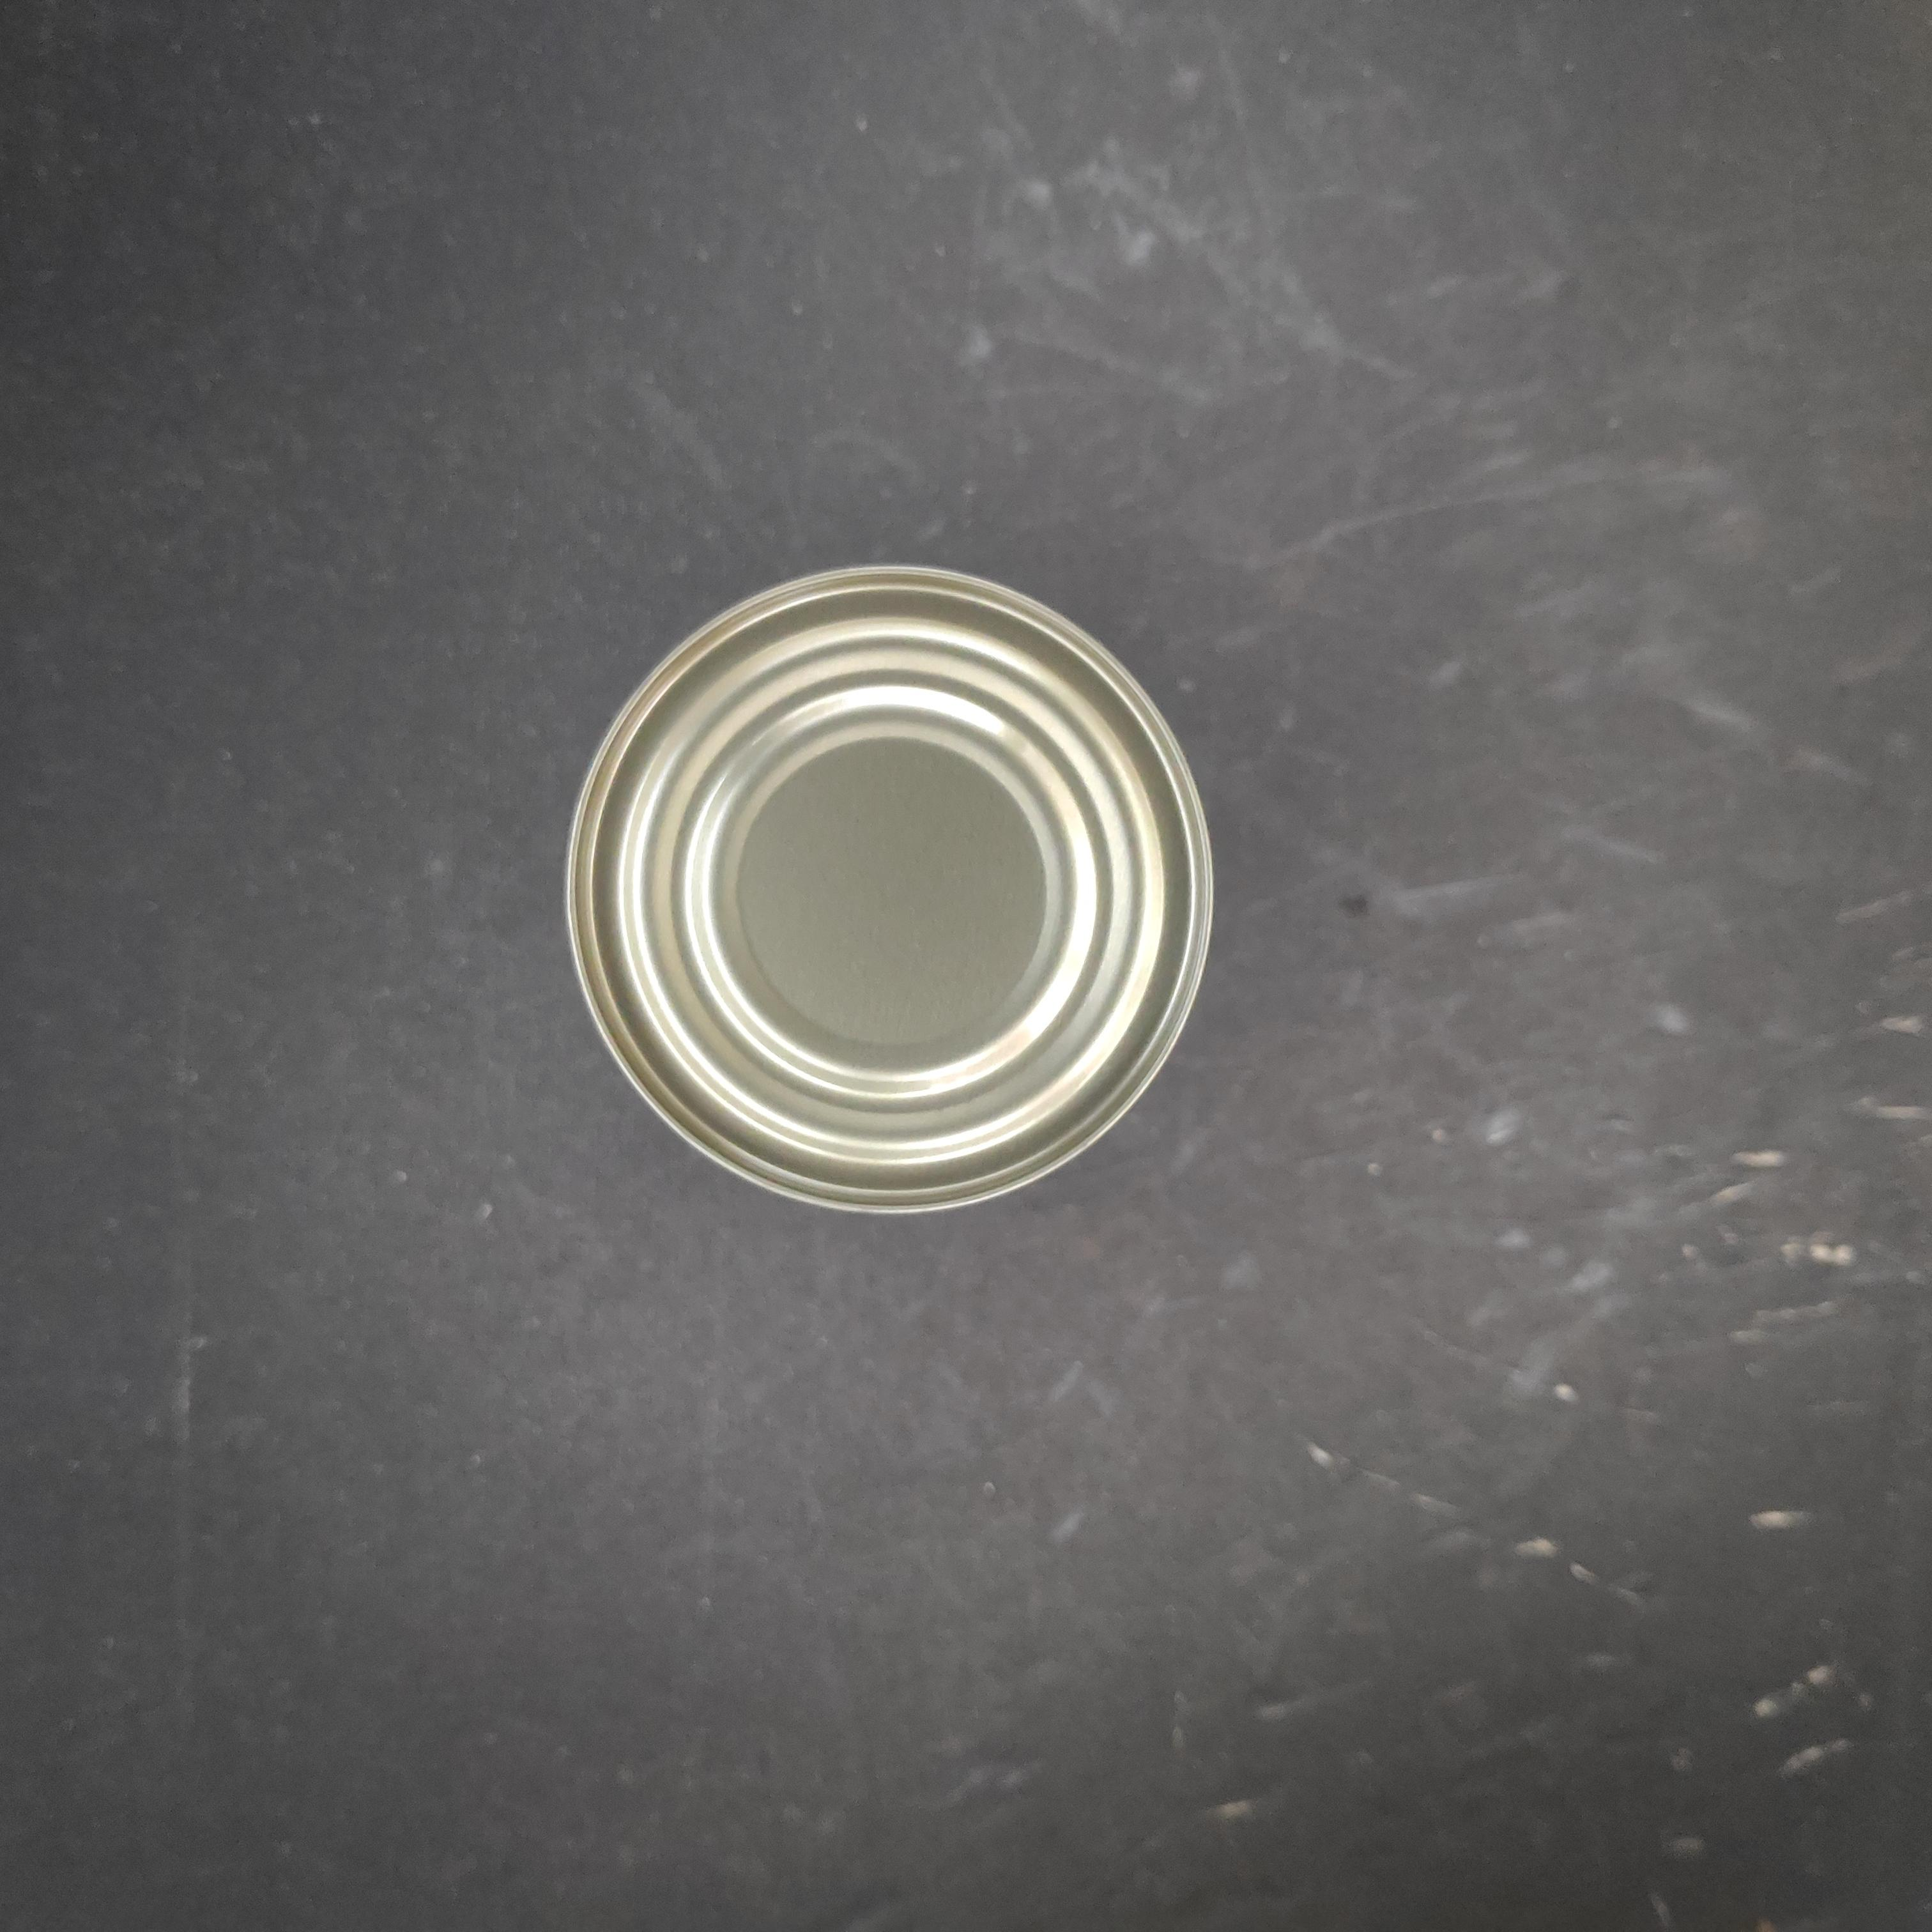No defect: (717, 562, 1370, 1216)
